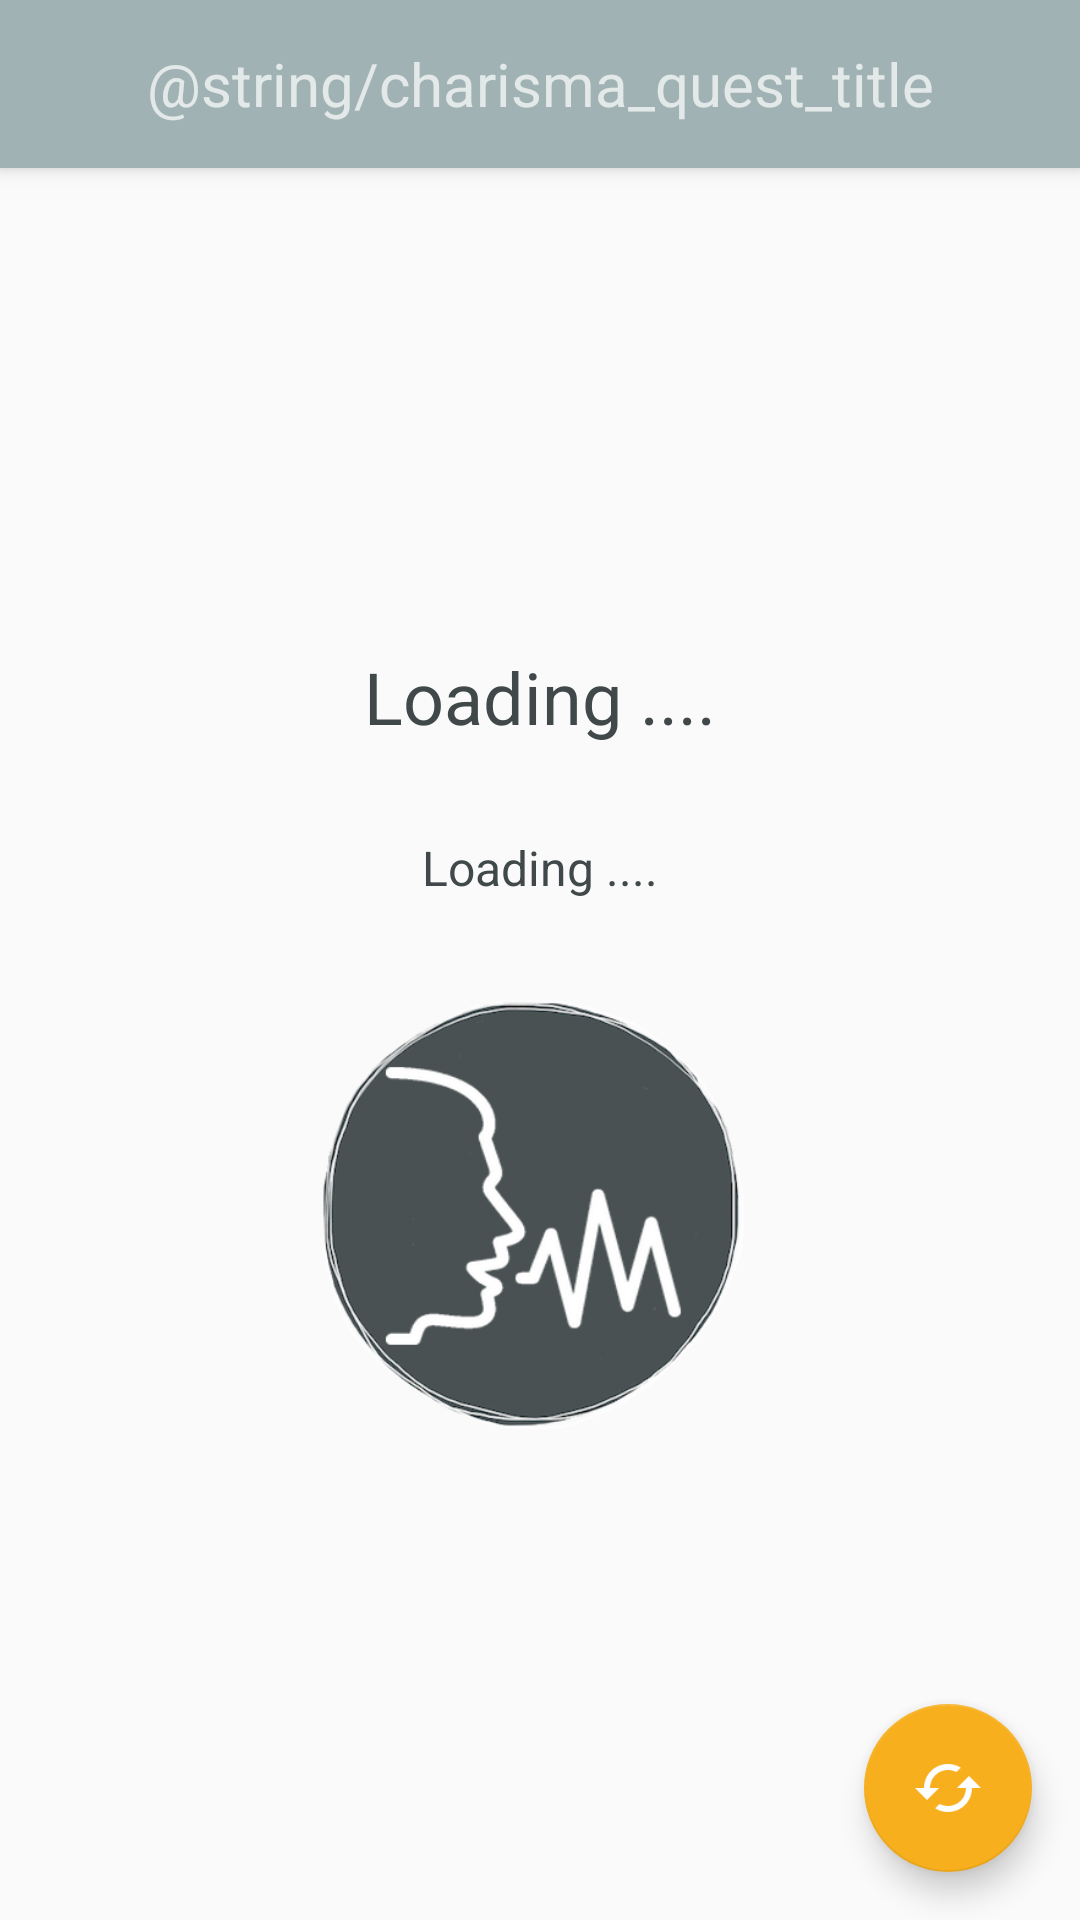

Icon click points for this 1080*1920 phone screenshot, format point (x, y):
cached: point (948, 1788)
